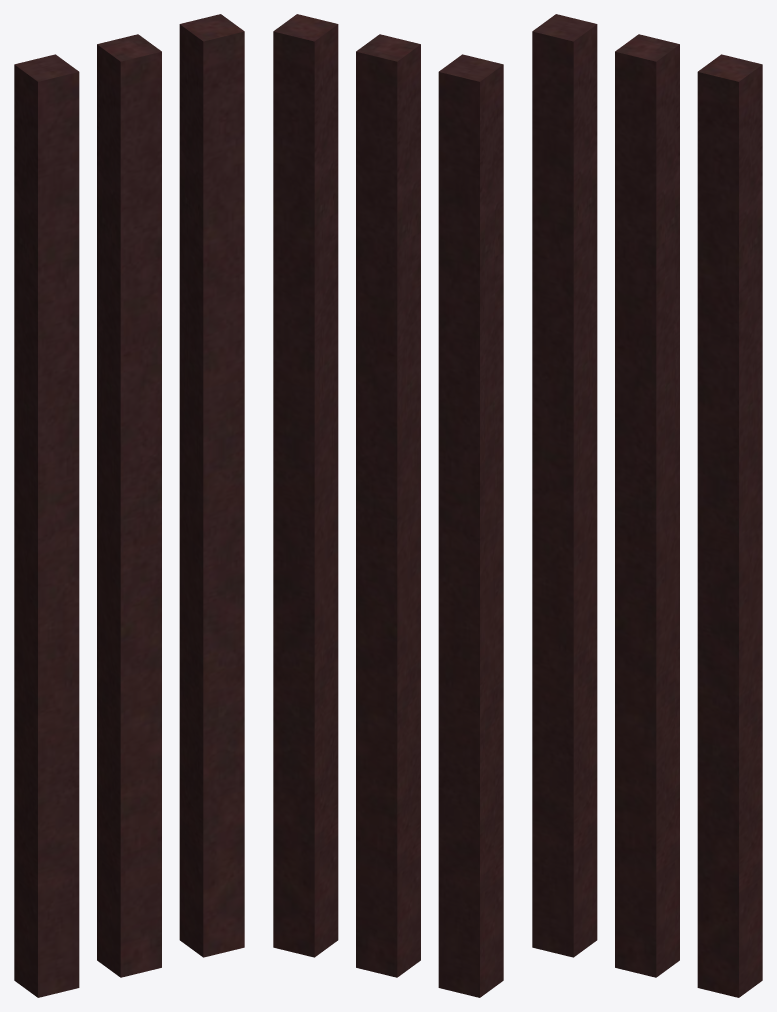
File: eaw-slit-85-3_h1800_rustycopper.fbx
The picture shows the model from 3 angles, left to right: view 1: azimuth 30°, elevation 25°; view 2: azimuth 150°, elevation 25°; view 3: azimuth 330°, elevation 25°; orthographic projection.
Visible parts, largest first — view 1: eaw-slit-85-3_h1800_rustycopper; view 2: eaw-slit-85-3_h1800_rustycopper; view 3: eaw-slit-85-3_h1800_rustycopper.
Boxes of the visible parts, <box> form: eaw-slit-85-3_h1800_rustycopper: <box>14,14,244,997</box>; eaw-slit-85-3_h1800_rustycopper: <box>273,14,503,997</box>; eaw-slit-85-3_h1800_rustycopper: <box>532,14,762,997</box>.
Bounding box in the file's own units: 42.5 × 180 × 8.5.
Materials: 1 (1 with a texture image).
